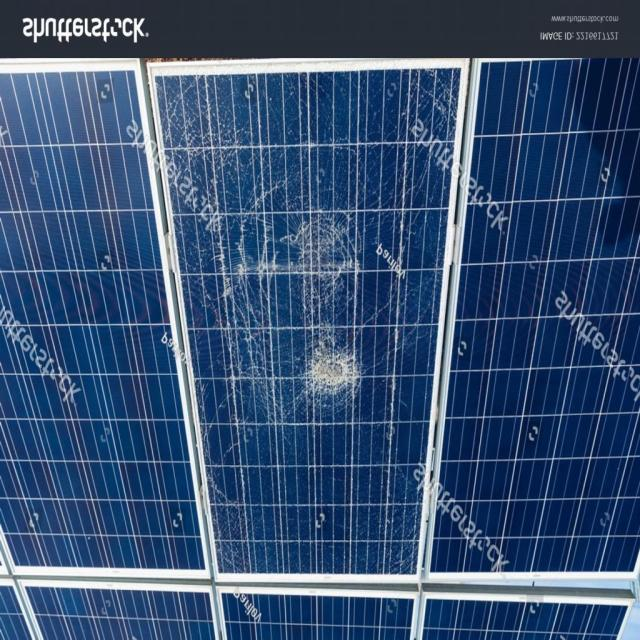cracked: (146, 57, 460, 584)
